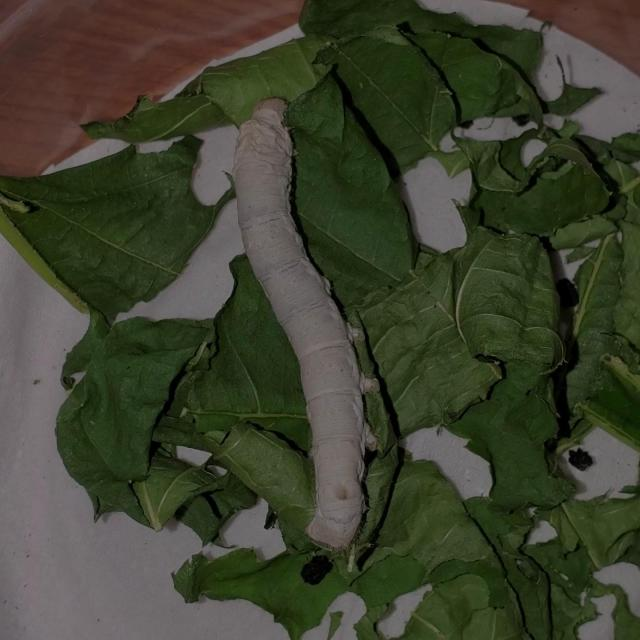Healthy: (166, 76, 484, 580)
